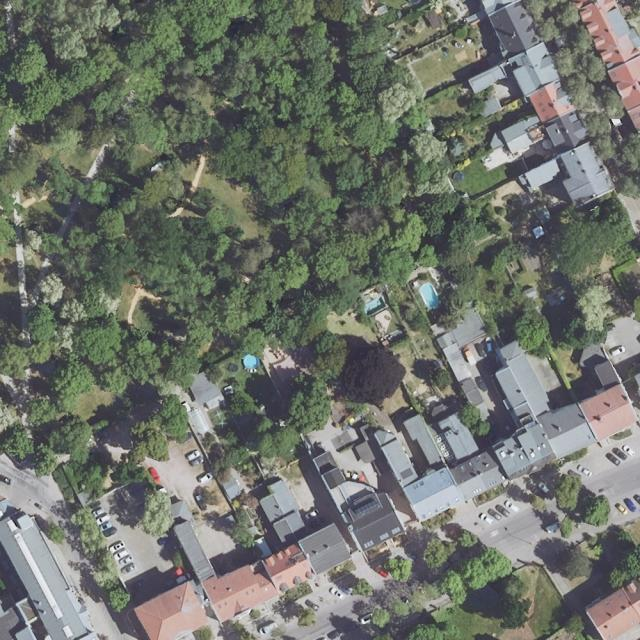PV: (355, 500, 378, 515)
ST: (521, 55, 530, 65), (284, 559, 295, 567)
